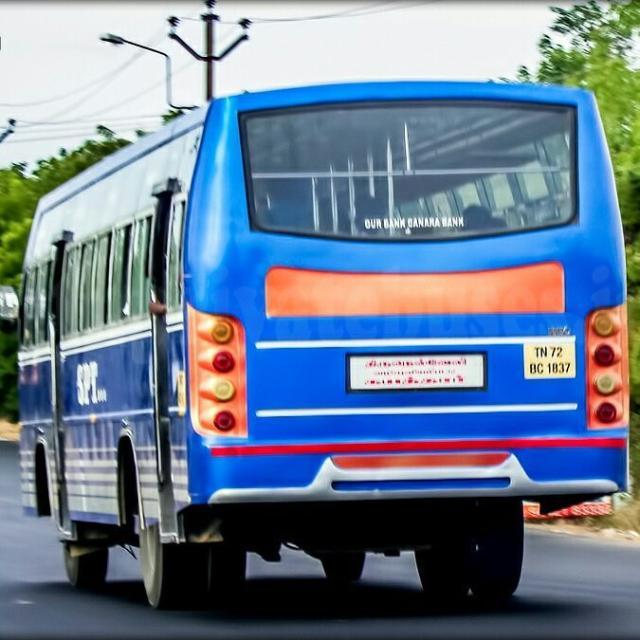Bus: (4, 77, 640, 609)
